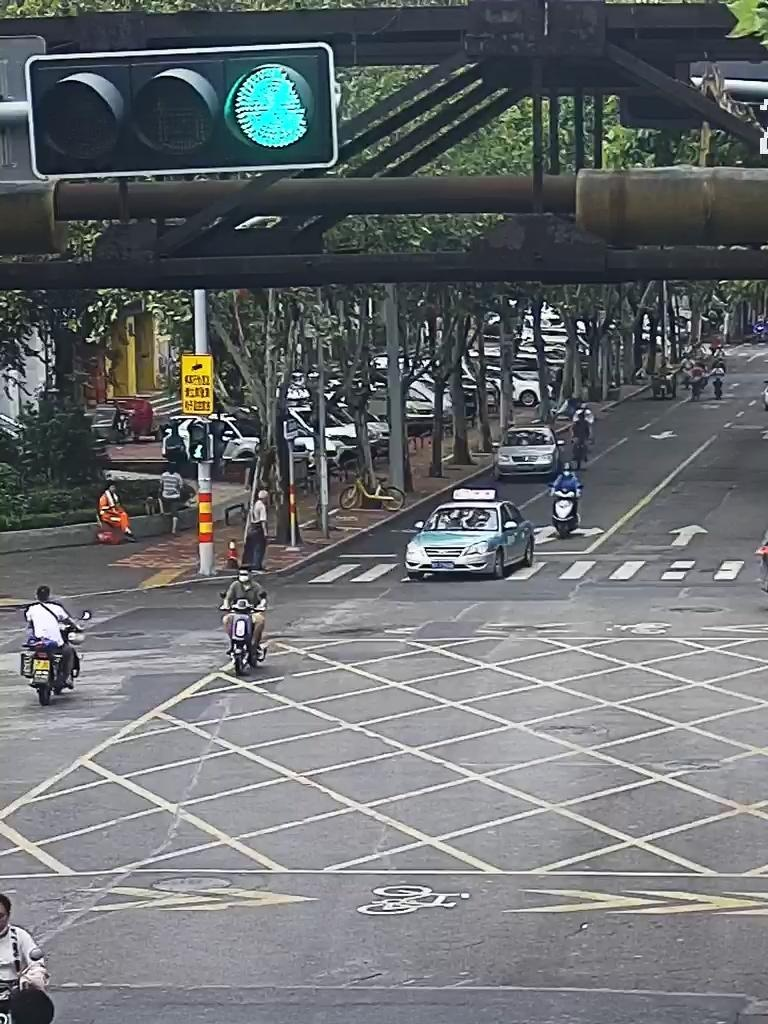green: (222, 63, 316, 147)
